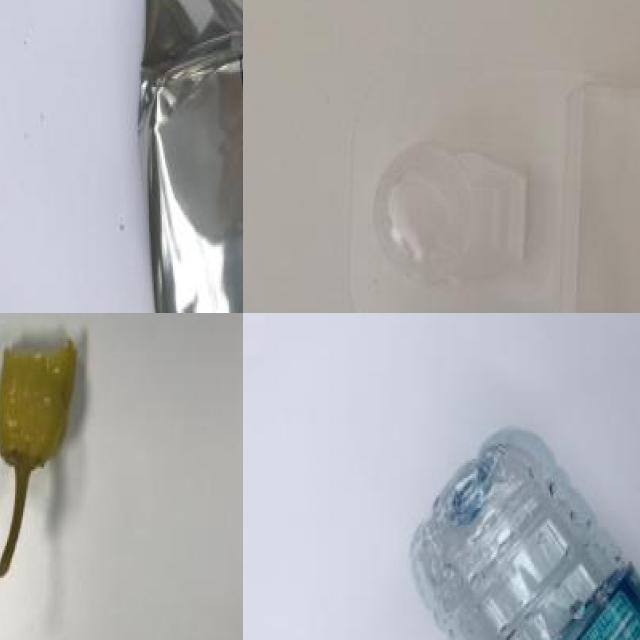compost: (0, 313, 101, 580)
plastic: (355, 55, 640, 313), (409, 425, 640, 640), (129, 0, 243, 313)
